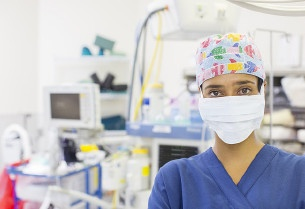Mask: (199, 78, 264, 143)
